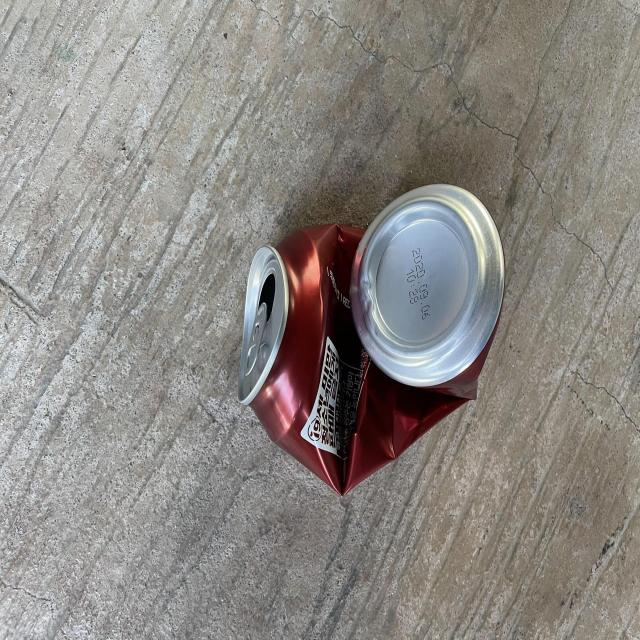can: (238, 184, 505, 495)
